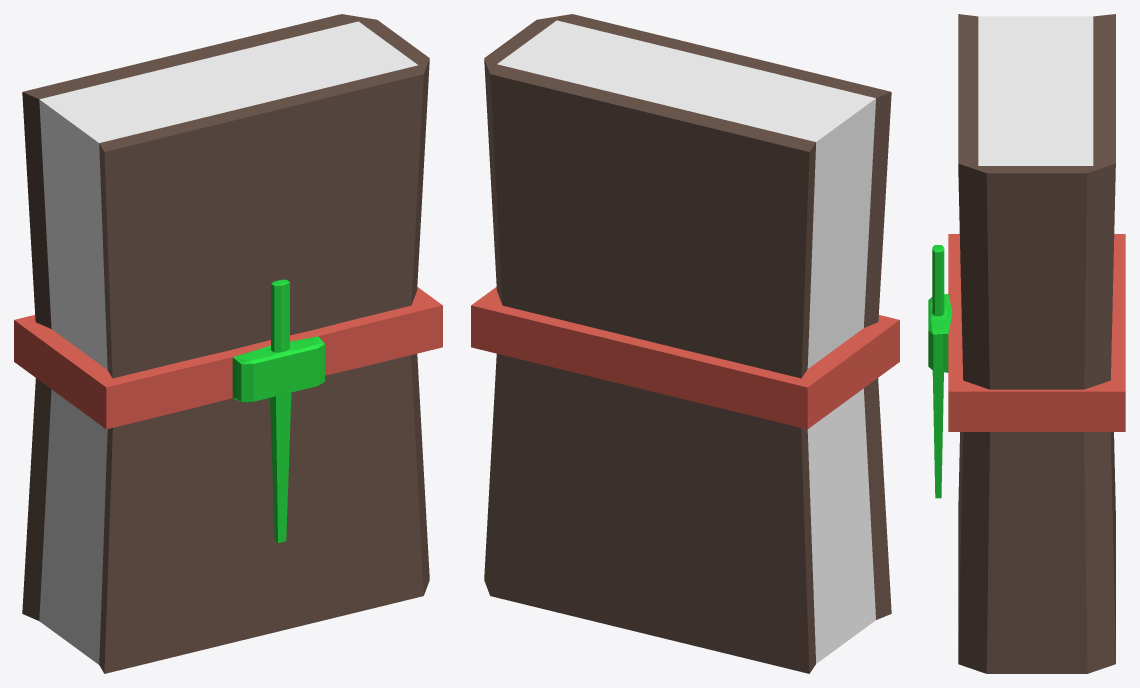
File: magicznaksiazka.fbx
3 views of the same model, side by side, from view 1: azimuth 30°, elevation 25°; view 2: azimuth 150°, elevation 25°; view 3: azimuth 270°, elevation 25° (orthographic). The views are drawn at different scales.
Parts seen in each view (by area): view 1: Cube.001; view 2: Cube.001; view 3: Cube.001.
Boxes of the visible parts, x1,y1,x2,y2 form: Cube.001: (14, 14, 442, 673); Cube.001: (471, 14, 899, 673); Cube.001: (928, 14, 1125, 673).
Size of the model in its own units: 284 by 412 by 147.
